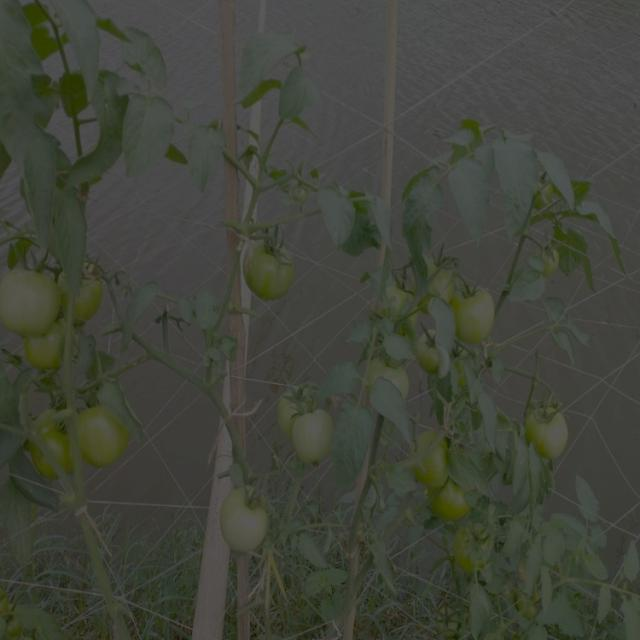tomato: (1, 268, 64, 340), (220, 483, 273, 561), (523, 401, 577, 474), (71, 404, 130, 470), (242, 242, 293, 303), (291, 411, 337, 472), (450, 285, 493, 345), (33, 408, 64, 480), (413, 428, 449, 489), (75, 269, 109, 326), (23, 329, 64, 376), (276, 389, 324, 427), (428, 485, 468, 526), (417, 326, 445, 374), (379, 357, 415, 394), (445, 539, 480, 577), (387, 276, 410, 313)
